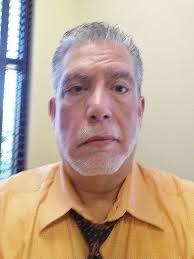strokeEyeMid: (60, 71, 133, 99)
strokeMouthMid: (79, 129, 123, 155)
